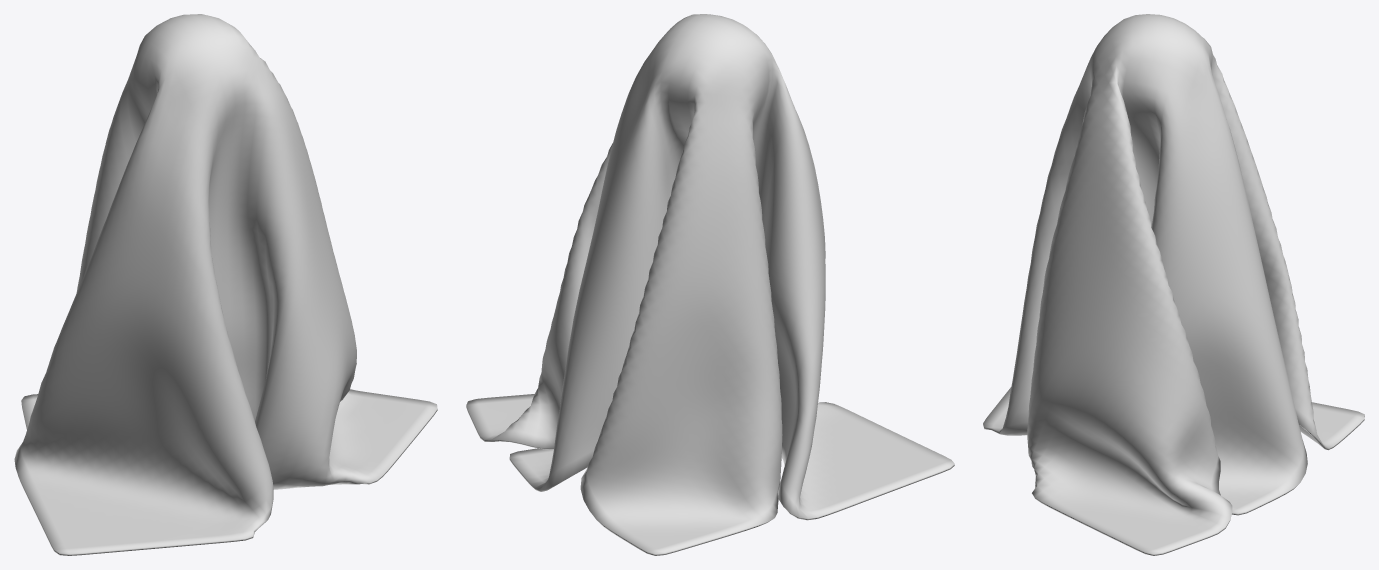
Rendered from Kaintengah.fbx.
3 views of the same model, side by side, from view 1: azimuth 30°, elevation 25°; view 2: azimuth 150°, elevation 25°; view 3: azimuth 270°, elevation 25° (orthographic). The views are drawn at different scales.
Parts seen in each view (by area): view 1: Kaintengah; view 2: Kaintengah; view 3: Kaintengah.
Boxes of the visible parts, x1=… form: Kaintengah: x1=14, y1=14, x2=437, y2=555; Kaintengah: x1=466, y1=14, x2=954, y2=555; Kaintengah: x1=983, y1=14, x2=1364, y2=555.
Size of the model in its own units: 407 by 398 by 325.
